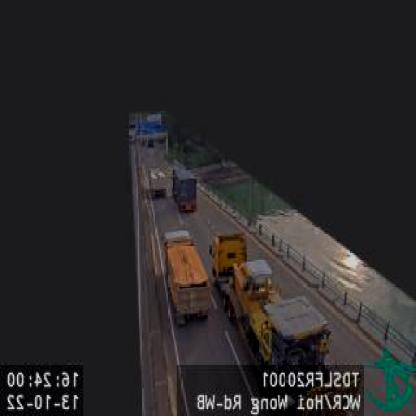Truck: (212, 226, 333, 412), (164, 227, 211, 324), (172, 164, 196, 214), (148, 169, 166, 202)
